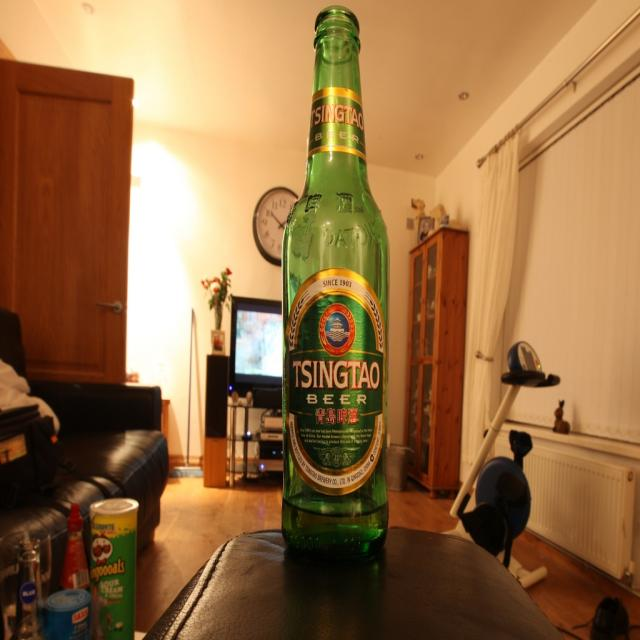tsingtao: (286, 268, 386, 498)
